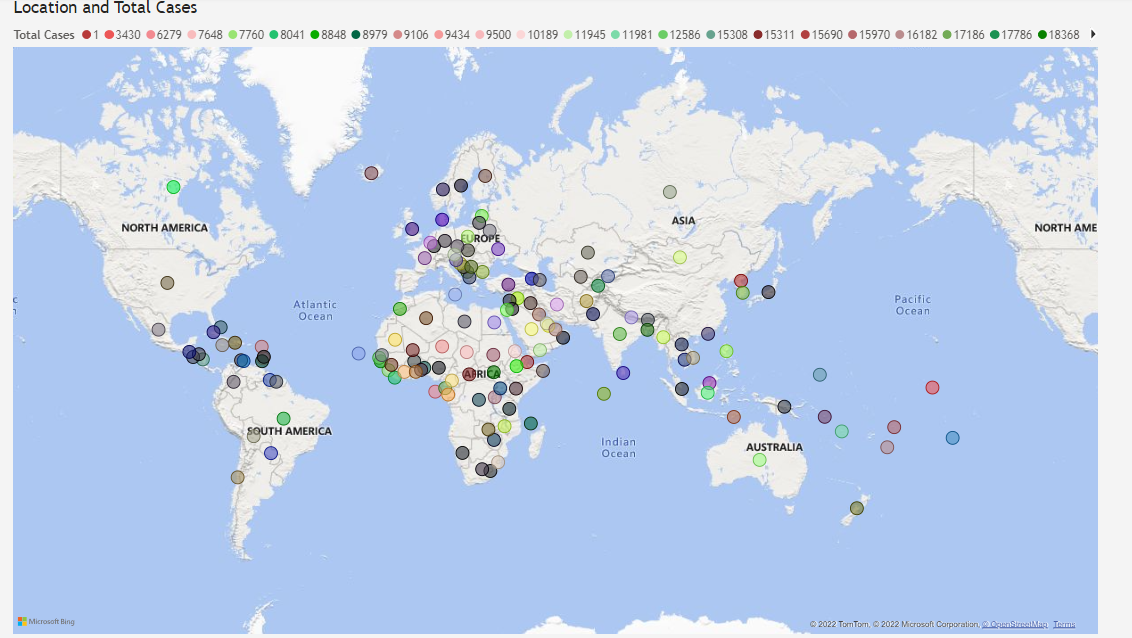

What the dashboard file says about the page in this screenshot:
{"tool":"powerbi","page":{"name":"Page 3","canvas":[1280,720],"ordinal":2},"visuals":[{"type":"map","fields":{"Category":["Covid Final.Location"],"Series":["Covid Final.Total Cases"]},"box":[10.3,0,1226,719.7],"z":0}]}

Visuals, with their boxes in screenshot pixels (x1, y1, x2, y2), scaled from the page's 1280x720 canvas onto the 1132x638 screenshot:
map - Covid Final.Location x Covid Final.Total Cases: [9, 0, 1093, 637]
